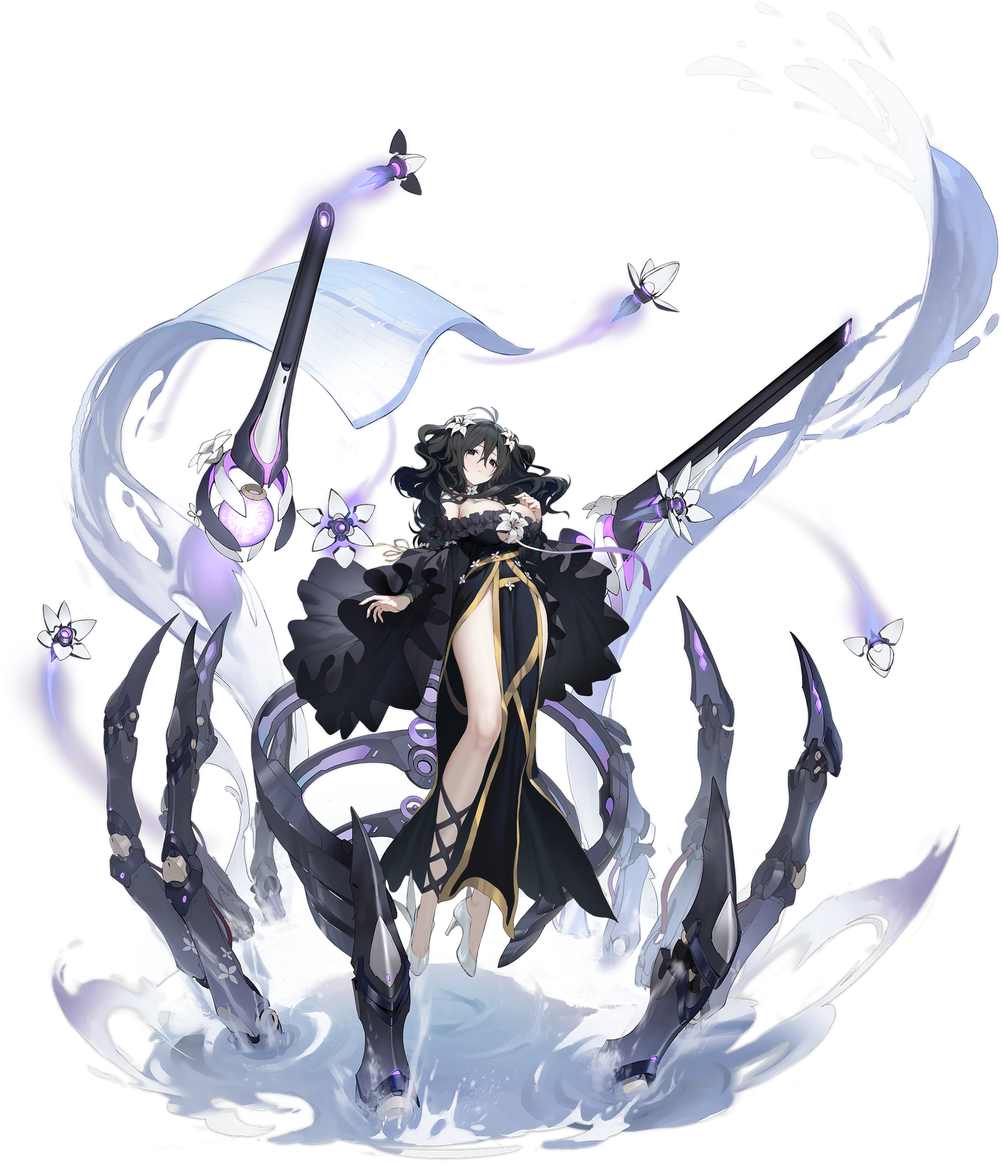person: (1, 308, 311, 1077)
